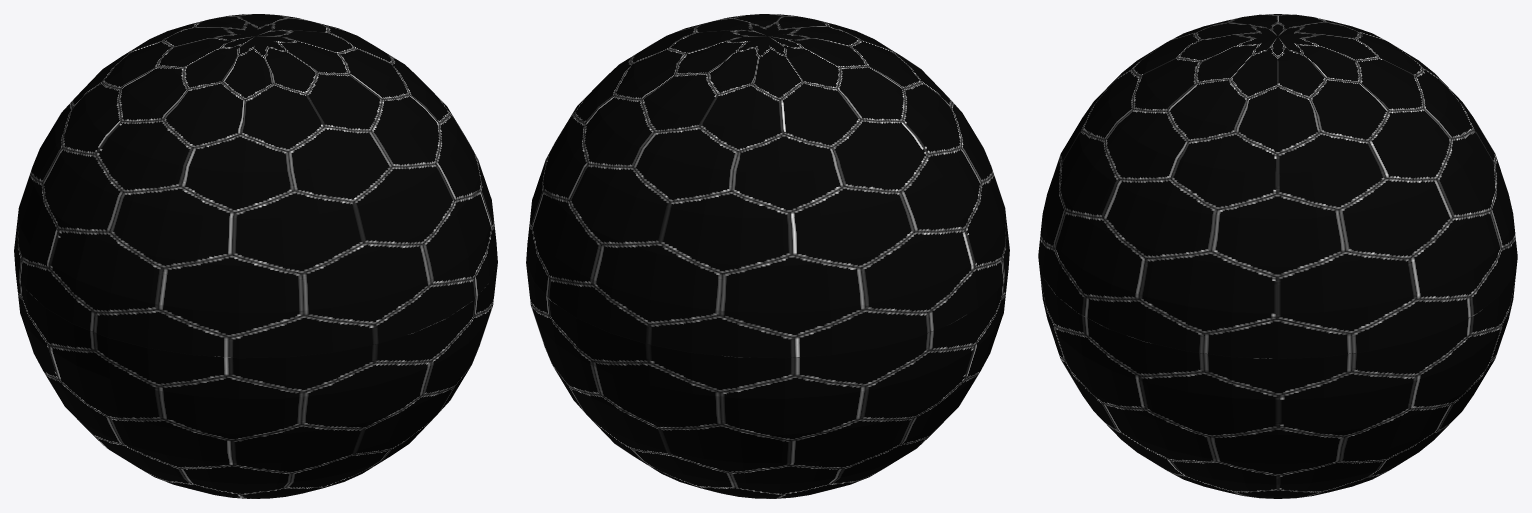
Rendered from blackBall.glb.
3 renders of one model, left to right at view 1: azimuth 30°, elevation 25°; view 2: azimuth 150°, elevation 25°; view 3: azimuth 270°, elevation 25°, orthographic.
Visible parts, largest first — view 1: BallTop, ballDown; view 2: BallTop, ballDown; view 3: BallTop, ballDown.
Part boxes in pixels (left/top/right/bottom): BallTop: left=14, top=14, right=497, bottom=357; ballDown: left=14, top=252, right=497, bottom=498; BallTop: left=526, top=14, right=1009, bottom=357; ballDown: left=526, top=247, right=1008, bottom=498; BallTop: left=1038, top=14, right=1517, bottom=358; ballDown: left=1038, top=257, right=1517, bottom=498.
Size of the model in its own units: 8.18 by 8.18 by 8.08.
26 materials, 2 textured.
